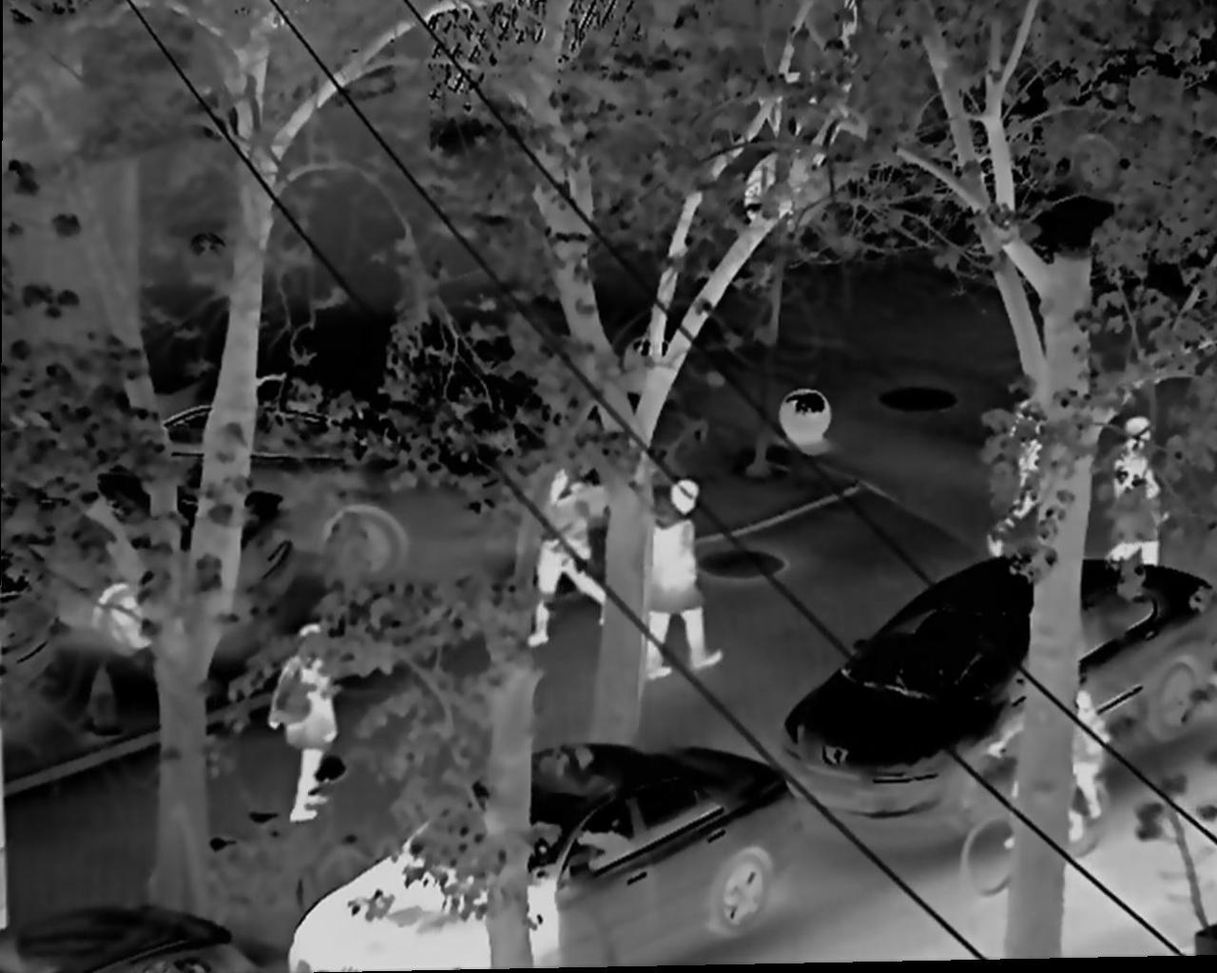person: (646, 480, 723, 678), (536, 472, 605, 650), (268, 655, 338, 825), (1112, 418, 1166, 565)
